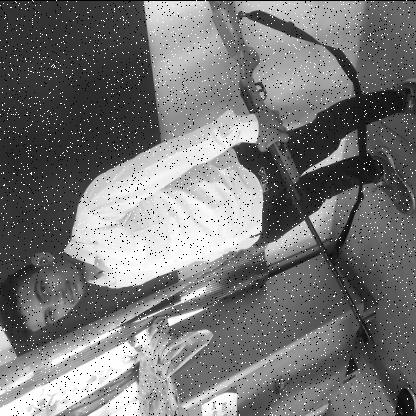rifle: (206, 0, 378, 348)
